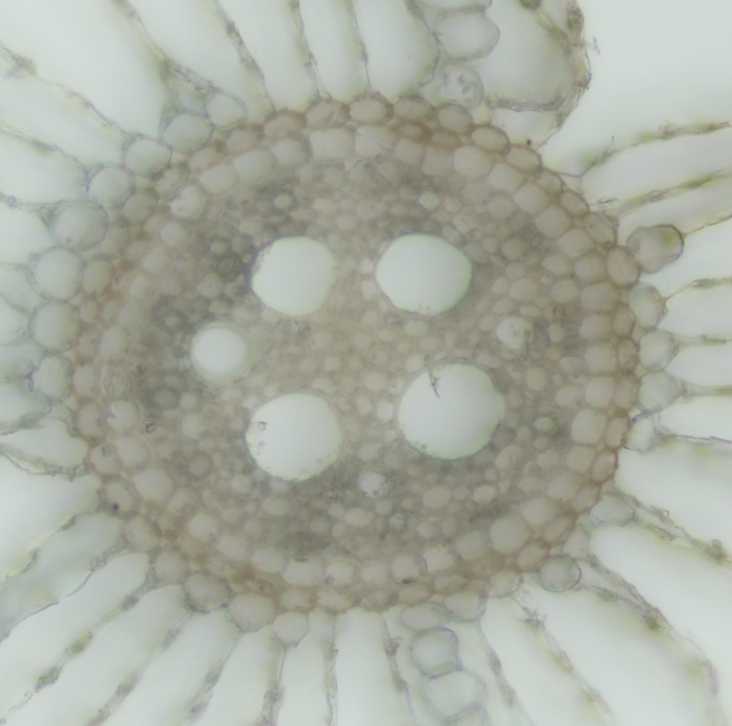lm: (397, 361, 507, 461), (246, 390, 344, 481), (375, 234, 473, 315), (250, 235, 337, 316), (189, 322, 252, 384)
